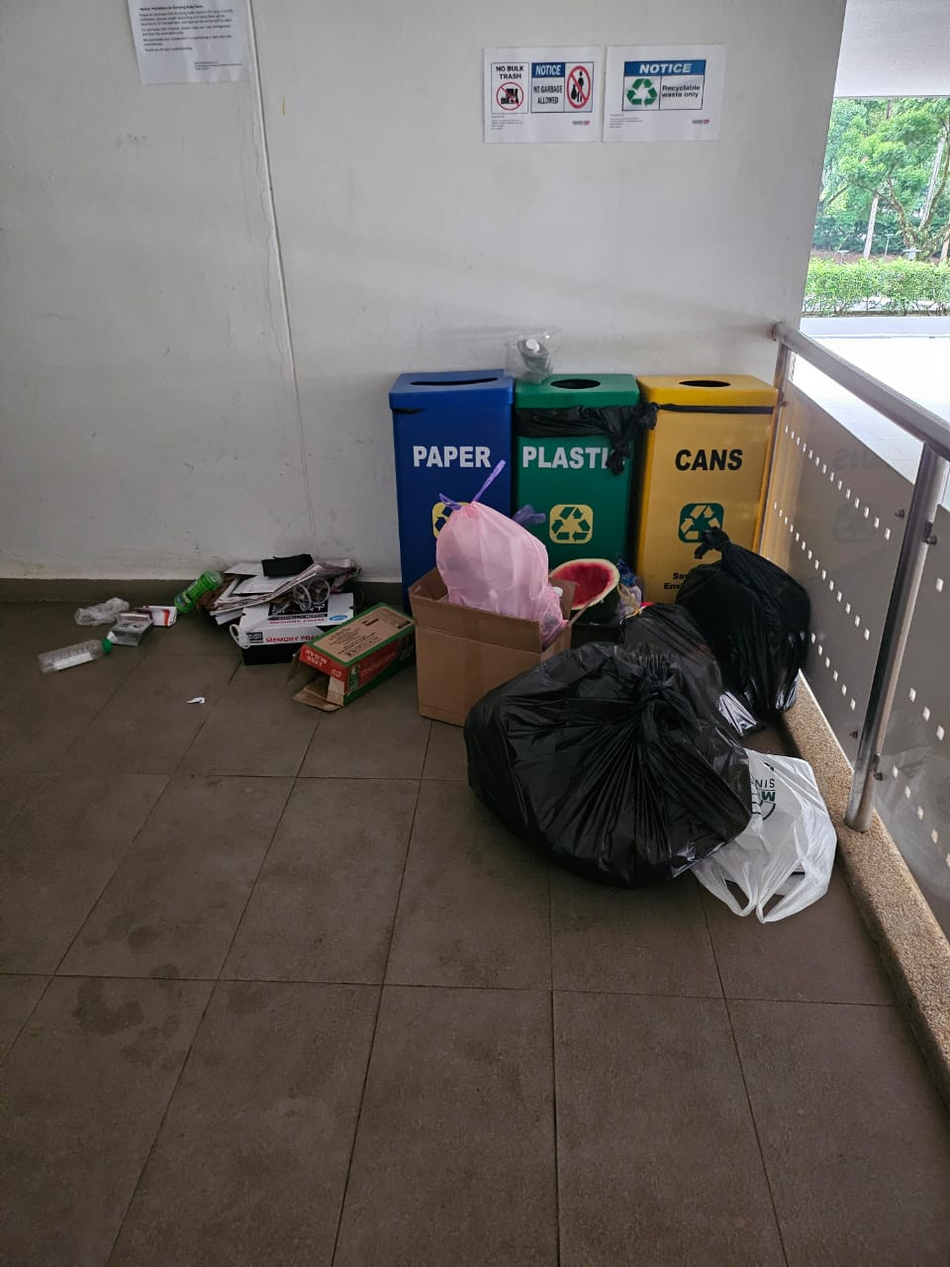bin_empty: (633, 375, 776, 602), (390, 369, 514, 605), (515, 373, 647, 566)
bulk_waste: (410, 503, 571, 725), (290, 604, 414, 712)
normal_waste: (464, 643, 750, 888), (616, 530, 809, 738), (693, 750, 835, 923), (211, 559, 358, 649)
